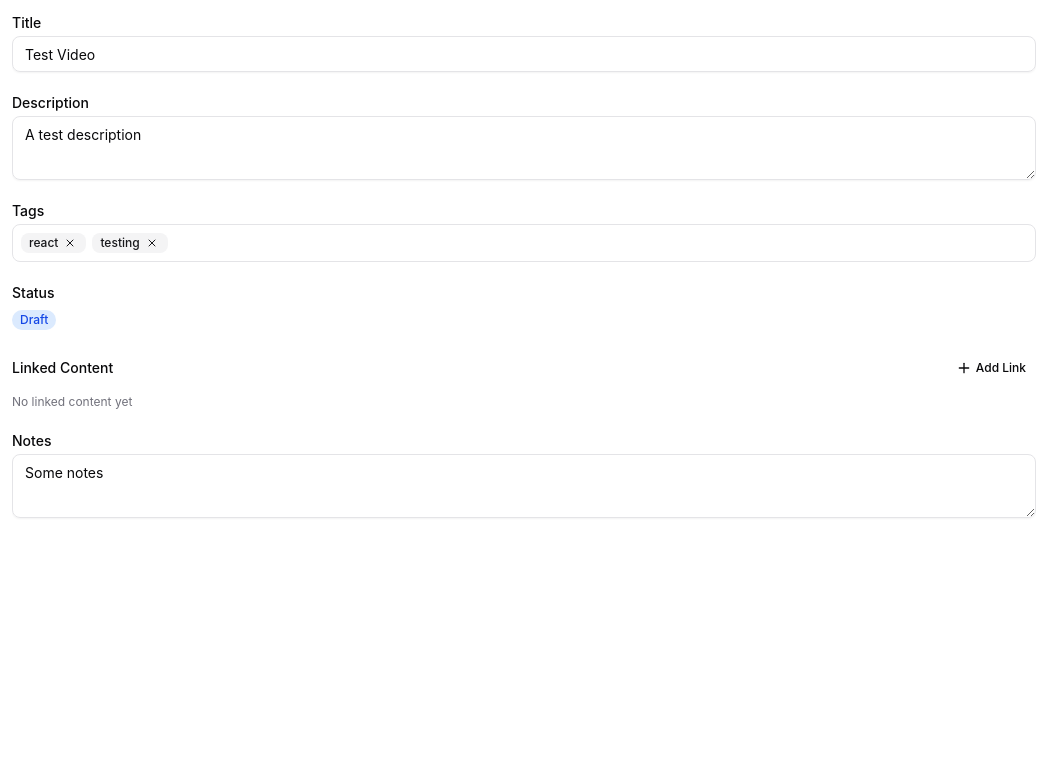
Test: ContentTab › discards changes when Discard is clicked
Step 1. Replace the text in the field labelled "Title" with "New Title" → (524, 54), box [12, 36, 1036, 72]
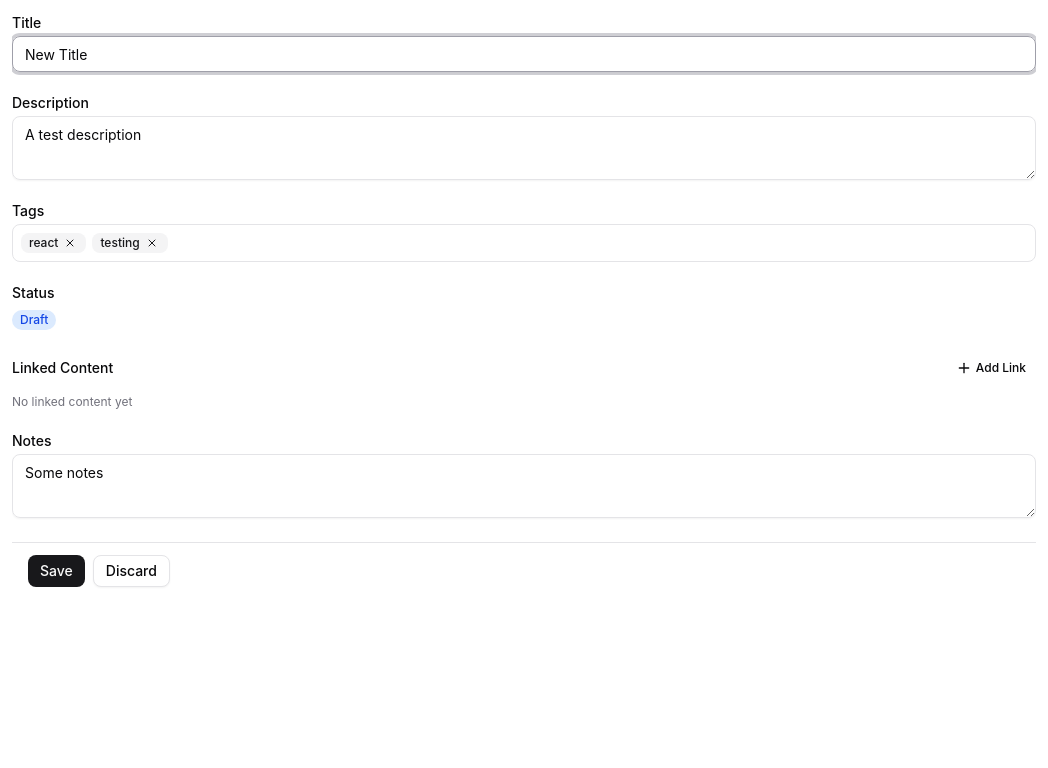
Check: the button "Discard" is shown
Step 2. Click the button "Discard" → (131, 571), box [93, 555, 170, 587]
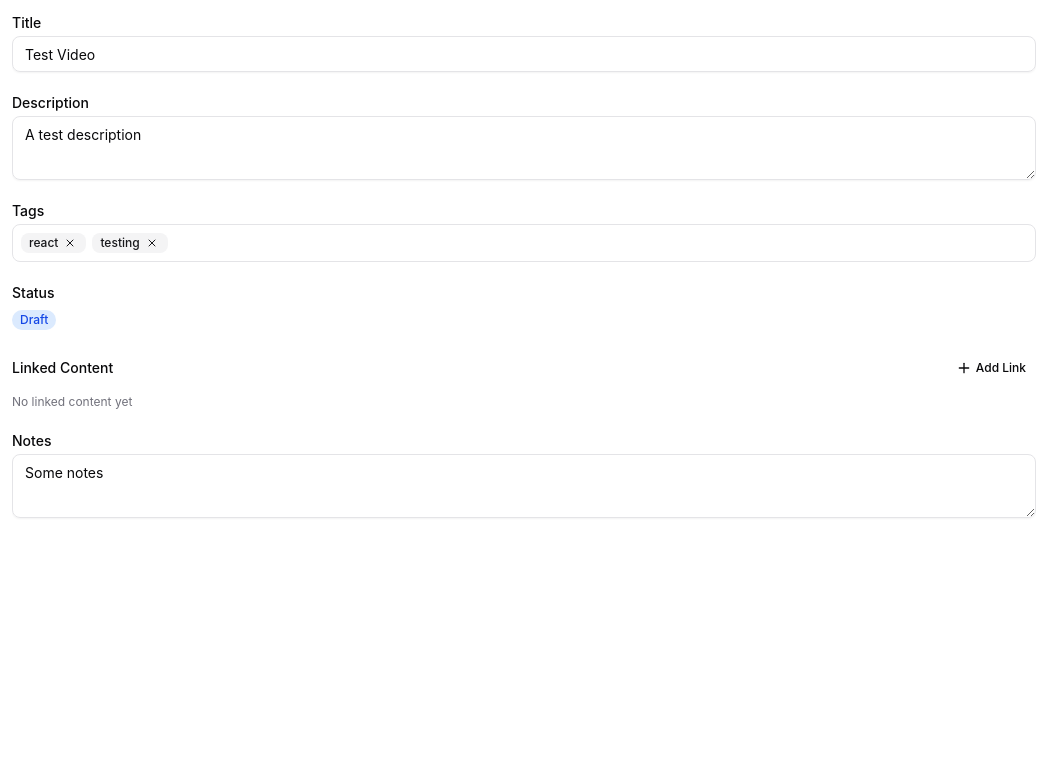
Check: the field labelled "Title" holds "Test Video", box [12, 36, 1036, 72]
Check: the button "Save" is gone
